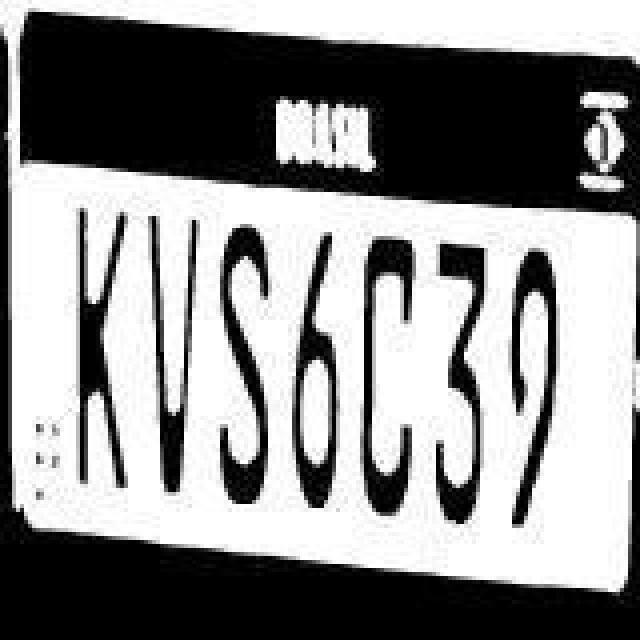3: (424, 236, 488, 540)
6: (284, 216, 340, 512)
9: (504, 226, 568, 542)
C: (346, 234, 422, 534)
K: (68, 212, 140, 508)
S: (208, 210, 280, 510)
V: (136, 208, 200, 496)
